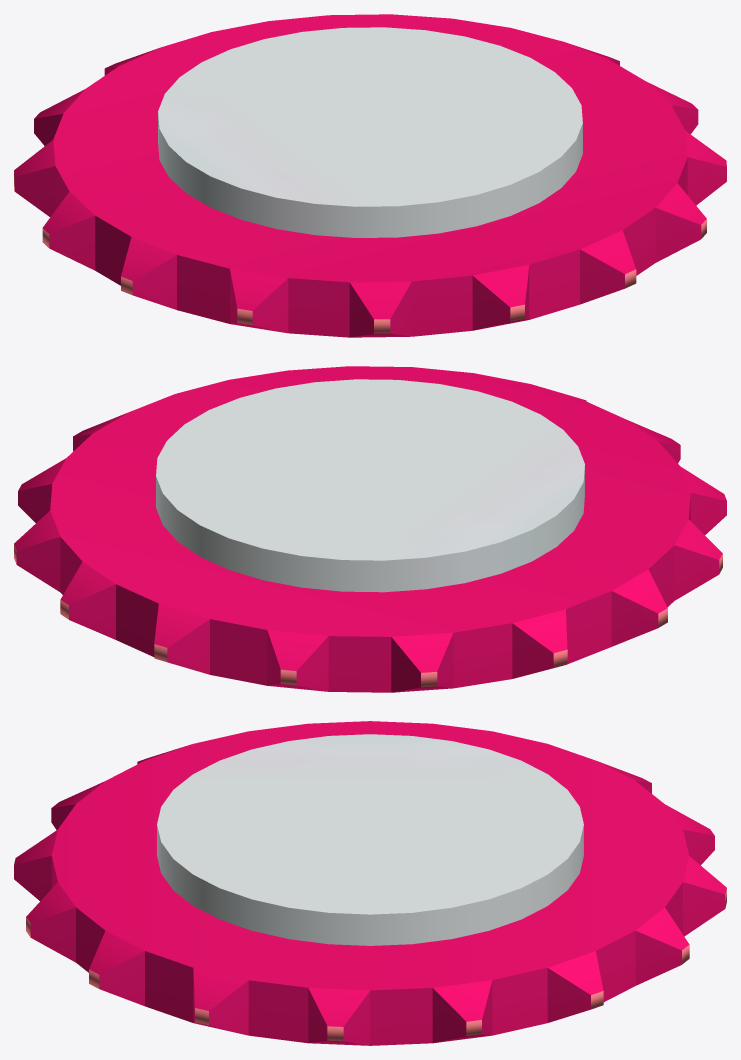
File: roundobstacle.fbx
The picture shows the model from 3 angles, top to bottom: view 1: azimuth 30°, elevation 25°; view 2: azimuth 150°, elevation 25°; view 3: azimuth 270°, elevation 25°; orthographic projection.
Parts seen in each view (by area): view 1: Cylinder.046; view 2: Cylinder.046; view 3: Cylinder.046.
Boxes of the visible parts, box(x1,y1,x2,y2) form: Cylinder.046: box(14, 14, 726, 337); Cylinder.046: box(14, 366, 726, 692); Cylinder.046: box(14, 721, 726, 1045).
Bounding box in the file's own units: 1413 × 190 × 1413.
